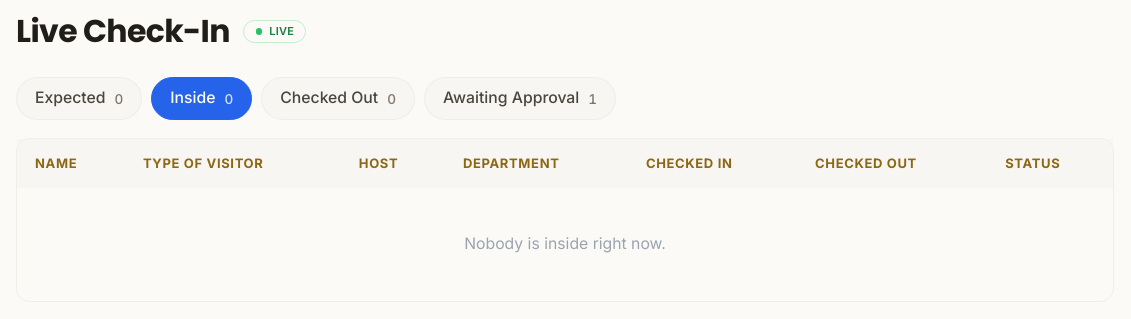
Test: AdminLiveCheckIn › prints the request time, not empty arrival columns, on the pending lane
Click the tab "Awaiting Approval 1".
click(520, 99)  # box [424,77,616,120]
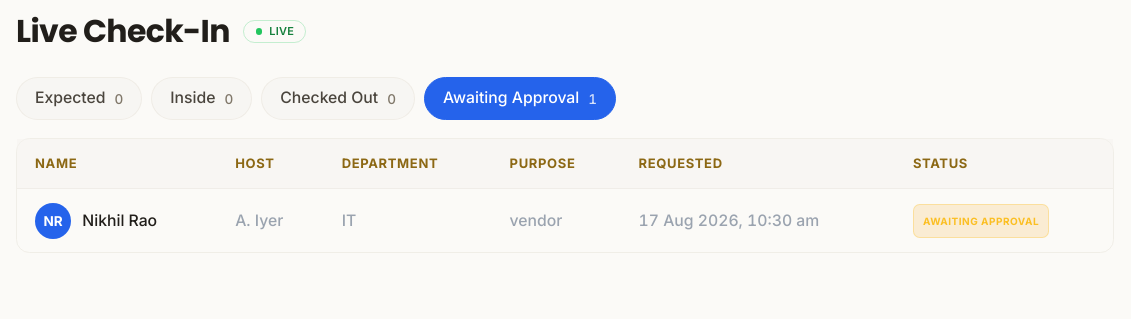
expect the column heading "Requested" is shown: met, box [620,139,895,189]
expect the column heading "Checked In" is gone: met
